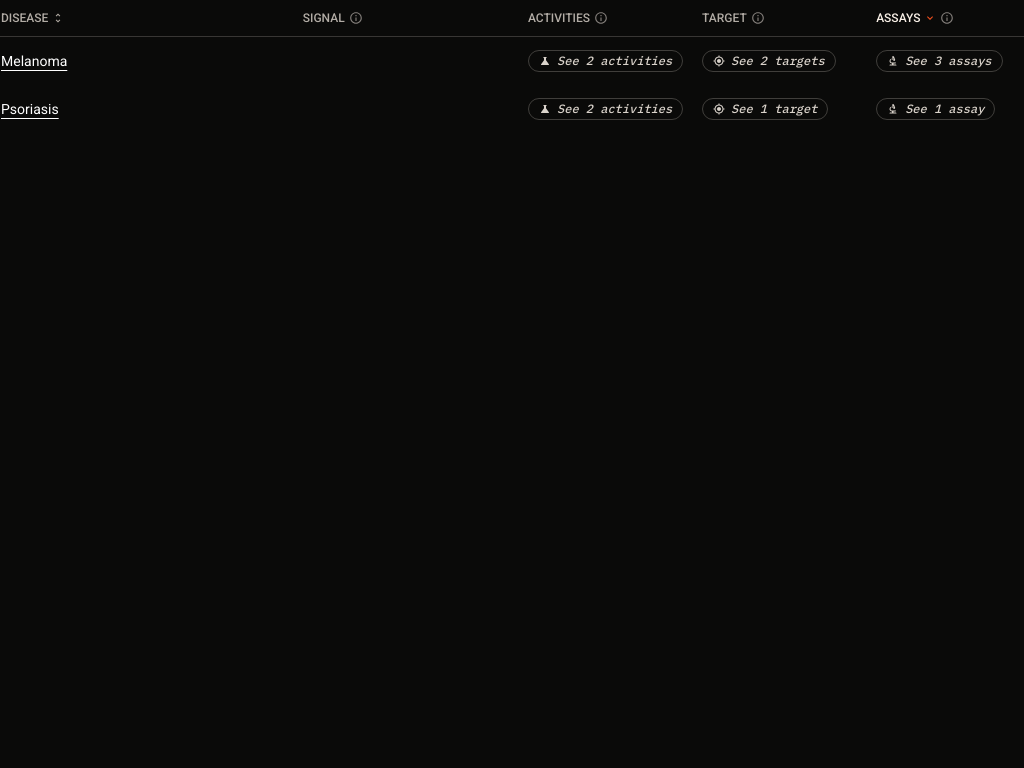
Test case: modal identity › opens the clicked row's list, not the first row's
This screenshot has width=1024, height=768.
Expected: the link "melanoma" is shown, [1, 50, 67, 70]
Click the button "See 1 target": [765, 108] box [702, 98, 828, 120]
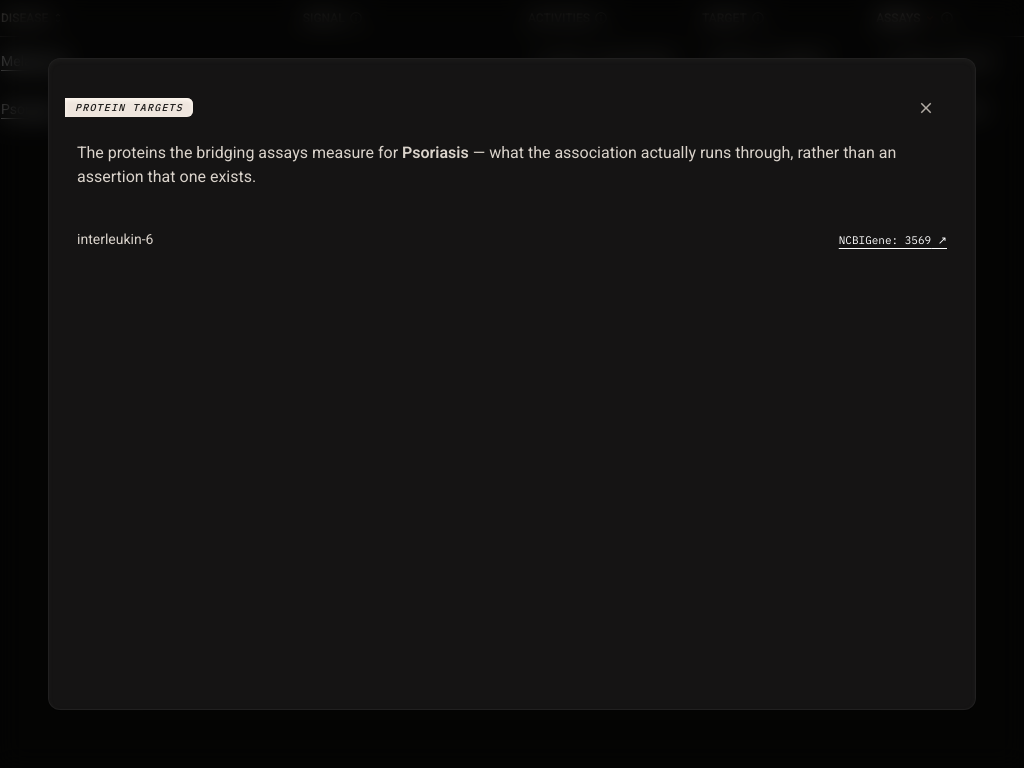
Expected: the heading "Protein targets" is shown, [65, 98, 193, 117]
Expected: the text "interleukin-6" is shown, [77, 229, 153, 249]
